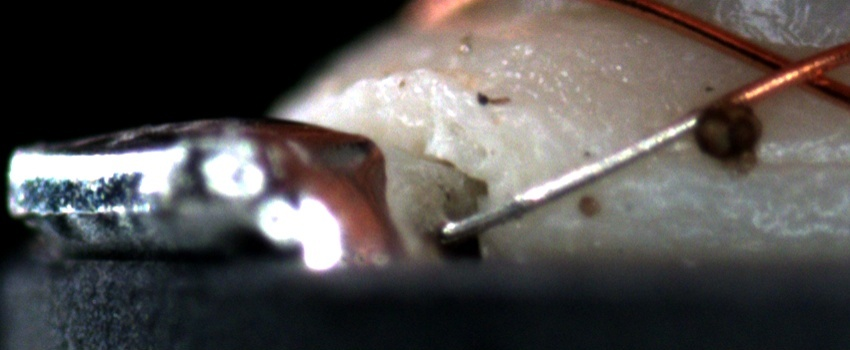CL: (743, 40, 841, 99)
DL: (623, 139, 850, 203)
TS: (438, 114, 699, 241)
